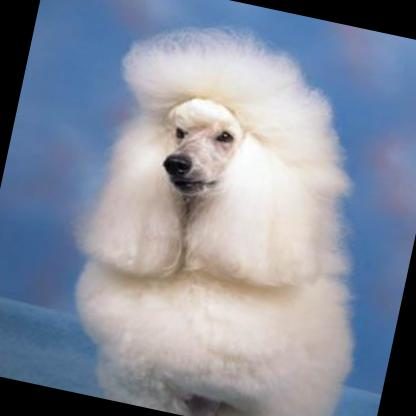toy_poodle: (51, 6, 407, 416)
